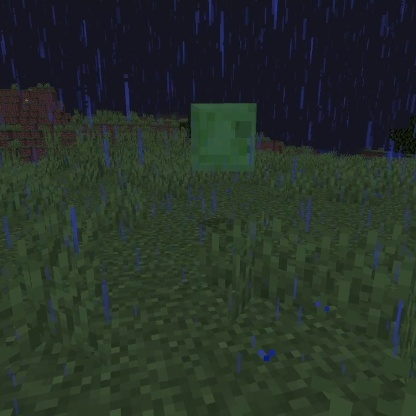slime: (186, 100, 260, 179)
